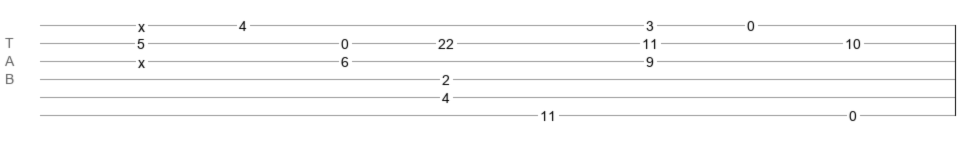0: (341, 36, 349, 46), (747, 18, 755, 28), (849, 108, 857, 118)
10: (845, 36, 861, 46)
11: (540, 108, 556, 118), (642, 36, 658, 46)
2: (442, 72, 450, 82)
22: (438, 36, 454, 46)
3: (646, 18, 654, 28)
4: (239, 18, 247, 28), (442, 90, 450, 100)
5: (137, 36, 145, 46)
6: (341, 54, 349, 64)
9: (646, 54, 654, 64)
x: (138, 19, 145, 27), (138, 55, 145, 63)
